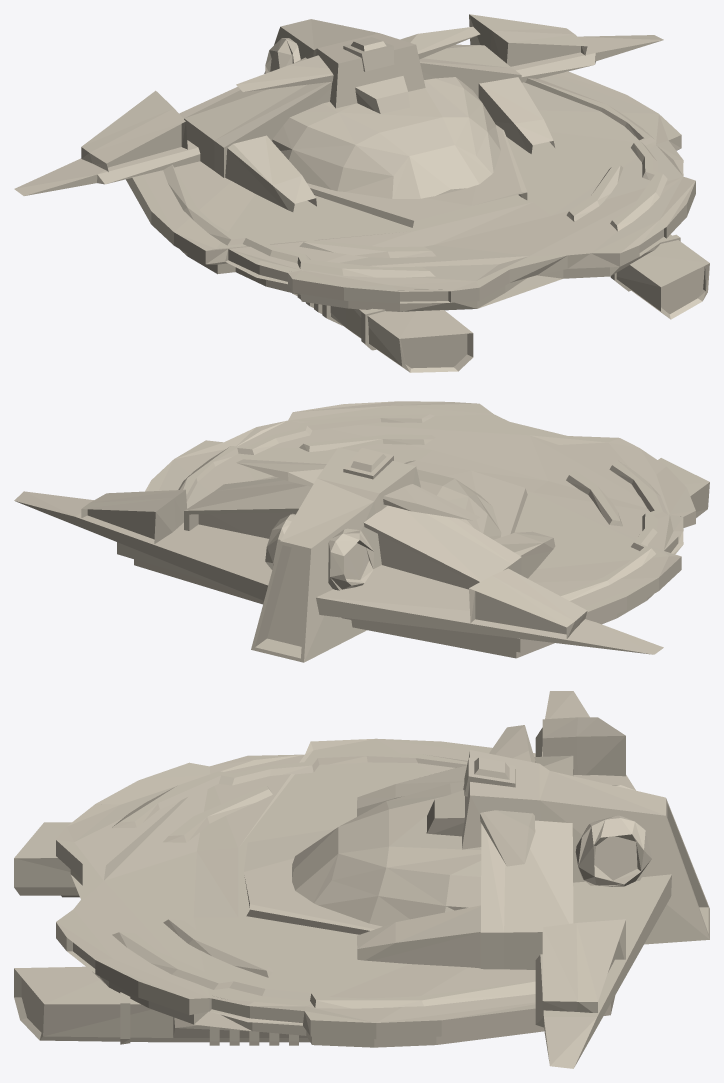
Rendered from ship_pancake.glb.
3 views of the same model, one above another, from view 1: azimuth 30°, elevation 25°; view 2: azimuth 150°, elevation 25°; view 3: azimuth 270°, elevation 25° (orthographic). The views are drawn at different scales.
Parts seen in each view (by area): view 1: S_Pancake; view 2: S_Pancake; view 3: S_Pancake.
Part boxes in pixels (x1,y1,x2,y2): S_Pancake: (14,14,709,372); S_Pancake: (14,401,709,662); S_Pancake: (14,691,709,1068).
Bounding box in the file's own units: 10.5 × 2.6 × 8.23.
